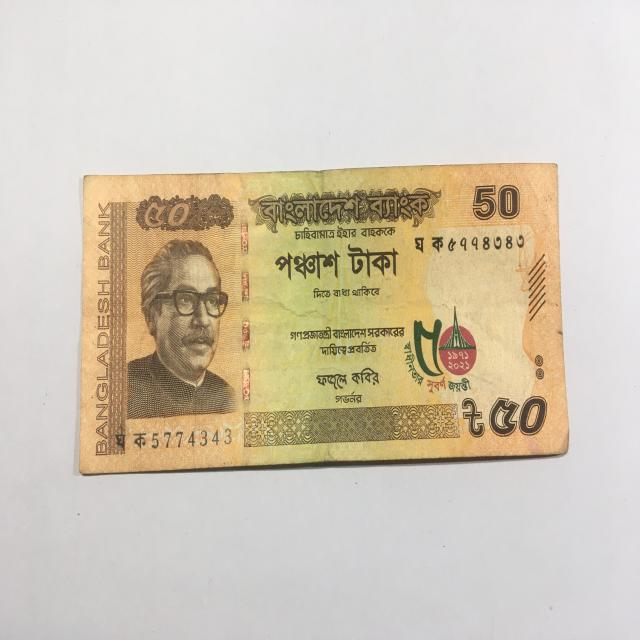Taka: (76, 149, 576, 468)
